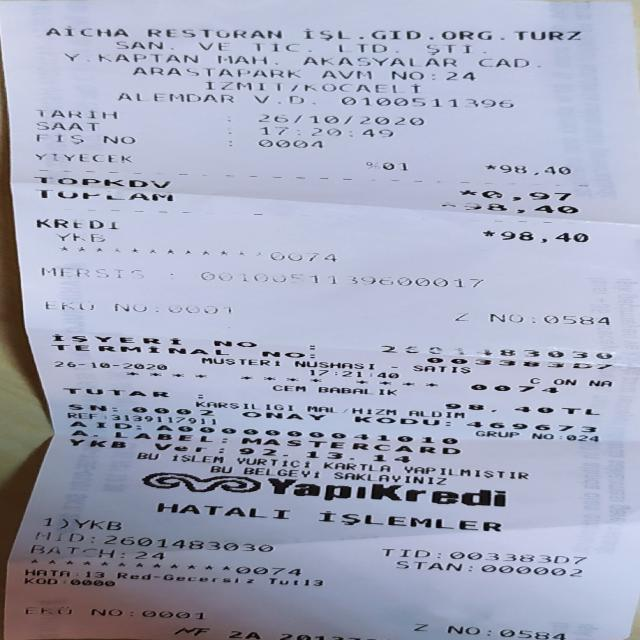text: (69, 420, 457, 444), (202, 268, 476, 292), (304, 26, 577, 43), (320, 509, 495, 535), (243, 436, 455, 455), (377, 344, 613, 359), (341, 93, 512, 110), (107, 534, 273, 551), (160, 500, 284, 522), (425, 357, 616, 370), (50, 343, 224, 357), (16, 263, 140, 282), (258, 112, 420, 126), (132, 66, 302, 78), (468, 418, 592, 434), (449, 550, 586, 564), (52, 332, 178, 347), (259, 124, 389, 138), (119, 89, 230, 105), (404, 465, 525, 479), (32, 176, 170, 188), (306, 80, 416, 95), (297, 57, 455, 67), (464, 201, 575, 215), (146, 28, 285, 39), (334, 470, 443, 484), (105, 412, 212, 426), (98, 51, 199, 65), (36, 190, 172, 200), (64, 386, 166, 399), (34, 150, 128, 164), (481, 564, 582, 577), (195, 399, 290, 412), (500, 230, 588, 244), (116, 430, 209, 443), (37, 216, 116, 230), (356, 414, 435, 428), (54, 360, 164, 370), (204, 78, 282, 92), (36, 106, 114, 120), (481, 189, 565, 202), (133, 404, 211, 418), (42, 26, 130, 38), (472, 382, 553, 395), (33, 544, 114, 557), (244, 409, 318, 423), (310, 368, 396, 379), (164, 574, 254, 584), (498, 164, 570, 176), (294, 359, 371, 370), (233, 456, 310, 467), (246, 466, 316, 478), (254, 92, 313, 106), (544, 313, 606, 326), (138, 609, 209, 620), (324, 460, 388, 472), (317, 385, 393, 395), (269, 252, 336, 263), (168, 304, 235, 315), (36, 120, 96, 132), (200, 358, 280, 367), (238, 564, 298, 576), (501, 628, 561, 640), (47, 298, 92, 313), (284, 631, 368, 639), (36, 131, 82, 145), (396, 560, 460, 570), (258, 138, 320, 148), (425, 43, 474, 55), (79, 516, 118, 531), (266, 577, 324, 587), (218, 52, 259, 66), (409, 408, 461, 419), (114, 40, 164, 51), (253, 41, 298, 53), (70, 438, 124, 448), (34, 531, 83, 542), (54, 232, 107, 242), (172, 453, 223, 463), (156, 442, 202, 453), (381, 548, 431, 558), (413, 364, 468, 373), (318, 69, 372, 78), (479, 58, 527, 68), (345, 406, 393, 416), (27, 566, 67, 578), (30, 604, 66, 617), (337, 43, 385, 52), (240, 447, 283, 457), (214, 338, 252, 349), (443, 402, 484, 412), (71, 578, 112, 588), (518, 402, 552, 414), (262, 349, 302, 359), (310, 450, 350, 460), (195, 40, 228, 52), (530, 376, 573, 385), (103, 133, 132, 146), (69, 402, 103, 413), (390, 70, 422, 81), (491, 312, 520, 324), (476, 429, 514, 438), (111, 302, 145, 312), (119, 570, 149, 581), (231, 628, 258, 640), (374, 453, 406, 463), (446, 72, 476, 82), (136, 547, 156, 562), (176, 627, 203, 638), (272, 383, 304, 392), (570, 404, 594, 416), (96, 606, 120, 618), (306, 404, 334, 413), (24, 576, 52, 585), (379, 162, 409, 170), (566, 433, 592, 442), (60, 52, 80, 63), (67, 411, 91, 420), (449, 625, 472, 634), (433, 200, 455, 208), (481, 228, 494, 240), (459, 188, 471, 200), (590, 378, 608, 386), (138, 451, 154, 460), (213, 464, 229, 473), (152, 301, 162, 315), (89, 569, 102, 579), (71, 429, 85, 438), (88, 533, 98, 545), (536, 432, 550, 440), (294, 80, 301, 93), (194, 391, 204, 400), (120, 546, 126, 561), (363, 162, 378, 168), (457, 311, 464, 323), (484, 164, 497, 170), (129, 608, 136, 619), (414, 623, 423, 631), (222, 116, 232, 123), (167, 268, 171, 283), (224, 128, 234, 134), (391, 48, 400, 54), (46, 515, 50, 528), (157, 571, 162, 581), (476, 50, 486, 54), (535, 63, 541, 69), (168, 44, 173, 51), (488, 408, 496, 412), (469, 563, 472, 572), (438, 548, 440, 560), (557, 433, 560, 440), (310, 350, 312, 360), (219, 445, 221, 454), (228, 138, 230, 146), (391, 363, 393, 371), (431, 69, 432, 82), (531, 313, 532, 324), (114, 404, 115, 414), (223, 435, 224, 444), (447, 418, 447, 428), (138, 422, 138, 431)
